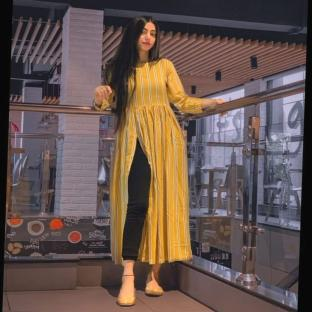Human: (93, 16, 225, 306)
